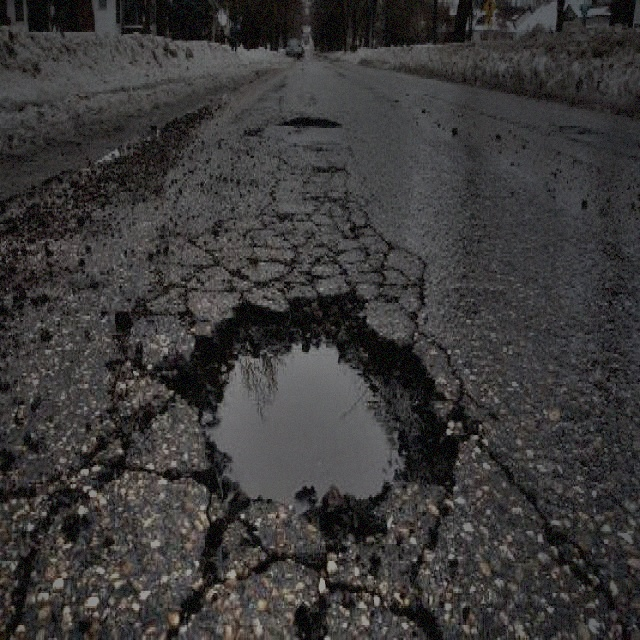pothole: (160, 282, 468, 550), (281, 111, 339, 130)
